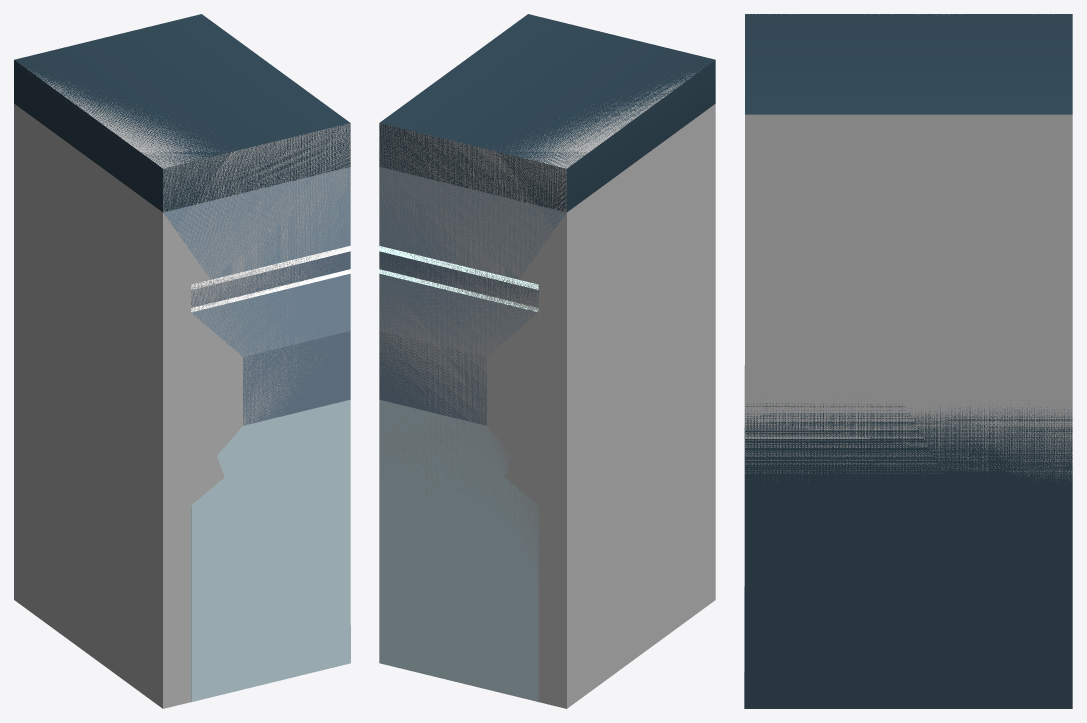
Rendered from SM_OuterWall.fbx.
The picture shows the model from 3 angles, left to right: view 1: azimuth 30°, elevation 25°; view 2: azimuth 150°, elevation 25°; view 3: azimuth 270°, elevation 25°; orthographic projection. The views are drawn at different scales.
Visible parts, largest first — view 1: SM_OuterWall_ConvexHulls, SM_OuterWall; view 2: SM_OuterWall_ConvexHulls, SM_OuterWall; view 3: SM_OuterWall, SM_OuterWall_ConvexHulls.
Boxes of the visible parts, x1,y1,x2,y2 form: SM_OuterWall_ConvexHulls: (14,70,350,708); SM_OuterWall: (14,14,350,702); SM_OuterWall_ConvexHulls: (379,73,715,708); SM_OuterWall: (379,14,715,701); SM_OuterWall: (744,14,1072,708); SM_OuterWall_ConvexHulls: (745,14,1072,481).
Bounding box in the file's own units: 291 × 400 × 800.
